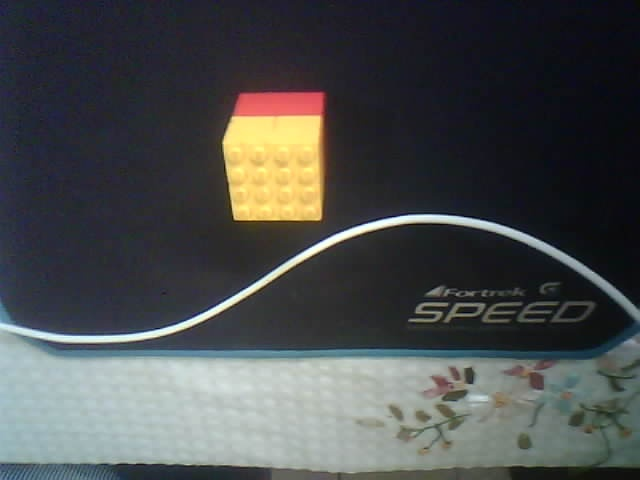lego: (221, 90, 327, 224)
